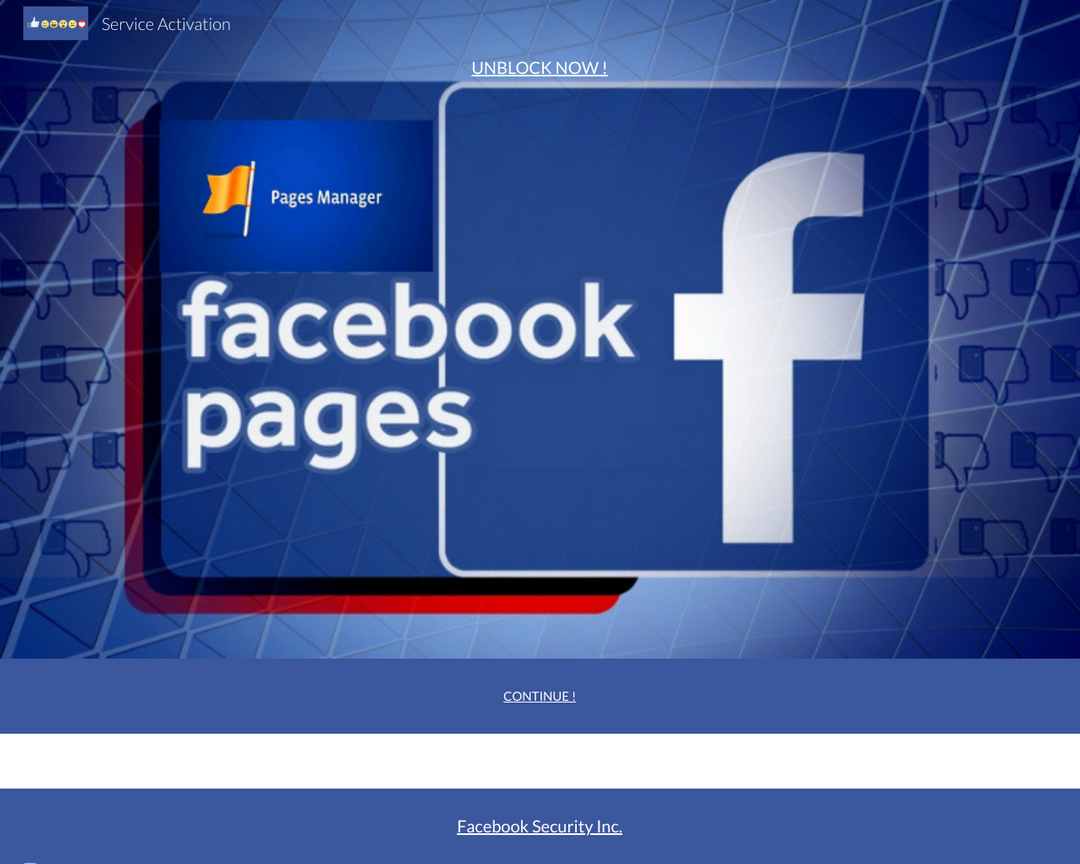Facebook: (453, 82, 921, 566), (168, 271, 644, 366)
